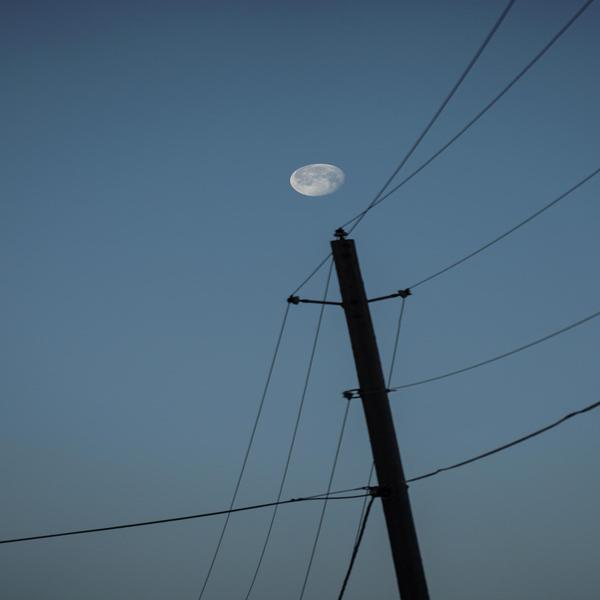utility_pole: (281, 219, 420, 412)
